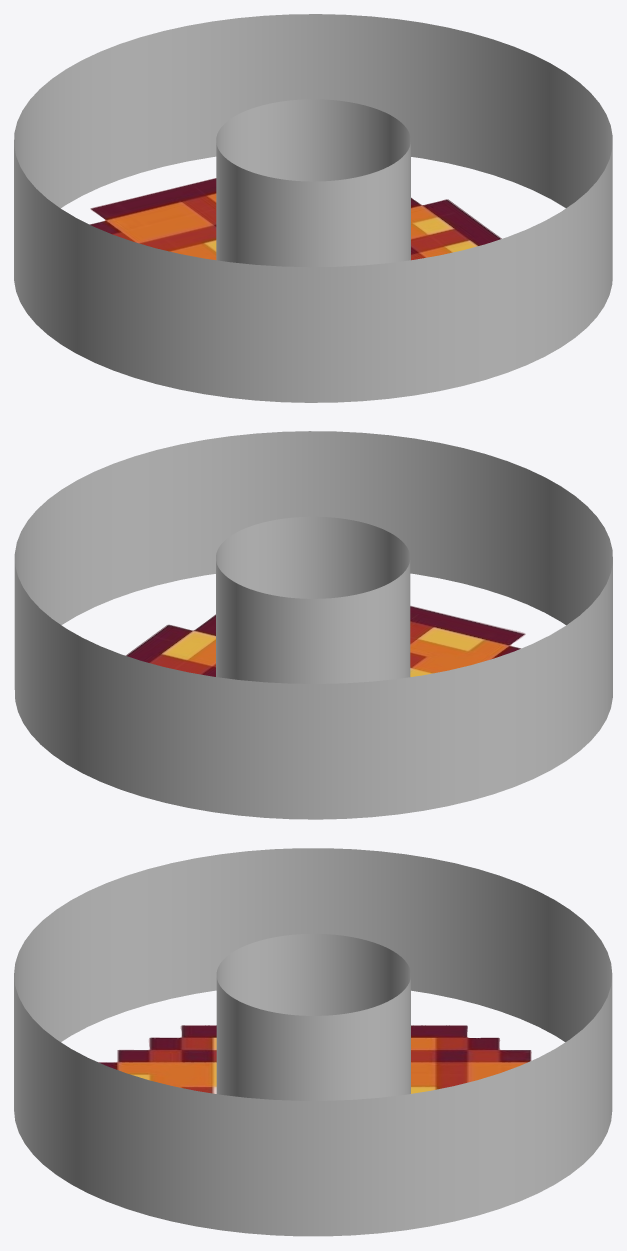
The model's file is Map1_O_Honeycomb.fbx.
3 views of the same model, one above another, from view 1: azimuth 30°, elevation 25°; view 2: azimuth 150°, elevation 25°; view 3: azimuth 270°, elevation 25° (orthographic).
Parts seen in each view (by area): view 1: OuterWall, InnerWall, Walkable; view 2: OuterWall, InnerWall, Walkable; view 3: OuterWall, InnerWall, Walkable.
Part boxes in pixels (bbox=[...]): OuterWall: bbox=[14, 14, 612, 402]; InnerWall: bbox=[216, 99, 410, 267]; Walkable: bbox=[89, 178, 501, 260]; OuterWall: bbox=[14, 431, 612, 819]; InnerWall: bbox=[216, 516, 410, 683]; Walkable: bbox=[126, 605, 525, 676]; OuterWall: bbox=[14, 848, 612, 1236]; InnerWall: bbox=[216, 933, 410, 1100]; Walkable: bbox=[98, 1025, 531, 1093].
Bounding box in the file's own units: 6000 × 1501 × 6006.
